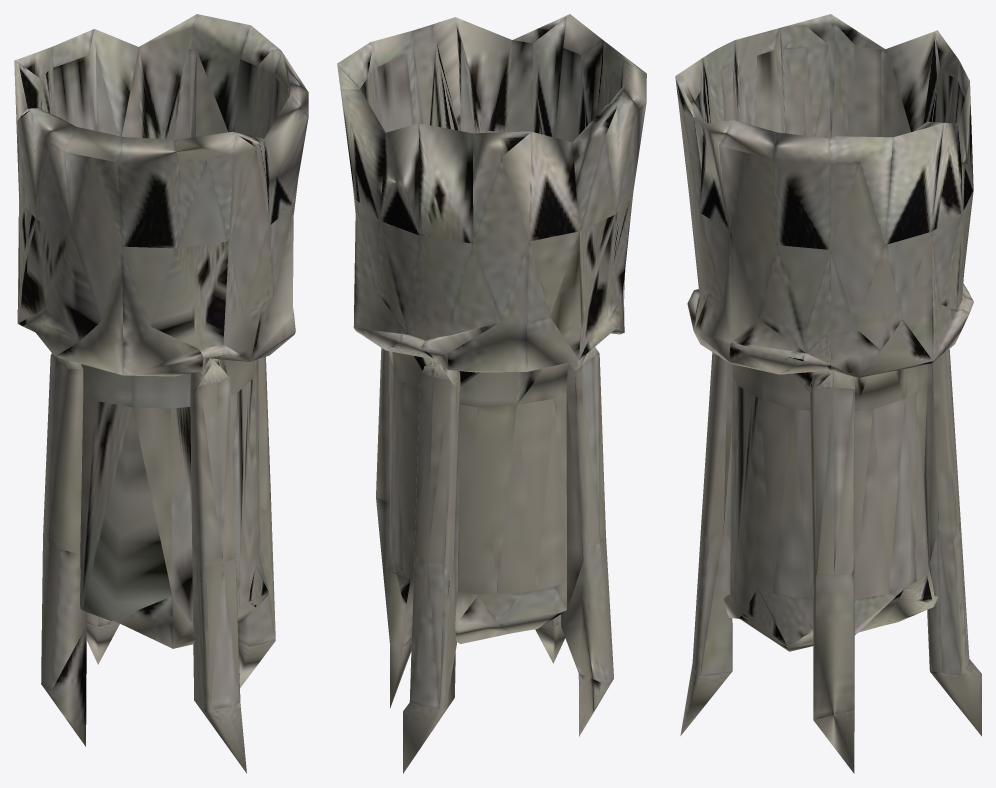
Rendered from 25-water-tower.glb.
The picture shows the model from 3 angles, left to right: view 1: azimuth 30°, elevation 25°; view 2: azimuth 150°, elevation 25°; view 3: azimuth 270°, elevation 25°; orthographic projection.
Parts seen in each view (by area): view 1: geometry_0; view 2: geometry_0; view 3: geometry_0.
Part boxes in pixels (x1=…): geometry_0: x1=14, y1=14, x2=308, y2=773; geometry_0: x1=337, y1=14, x2=646, y2=773; geometry_0: x1=675, y1=14, x2=981, y2=773.
Size of the model in its own units: 0.3965 by 0.9502 by 0.4038.
Materials: 1 (1 with a texture image).
